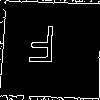F: (26, 25, 57, 72)
